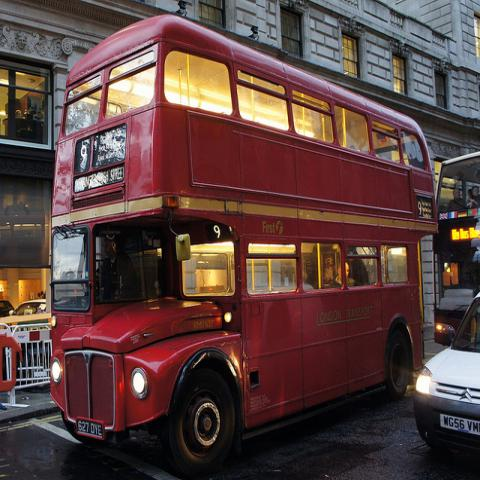bus: (50, 13, 445, 470), (434, 149, 480, 349)
car: (412, 291, 480, 457), (9, 301, 47, 315)
